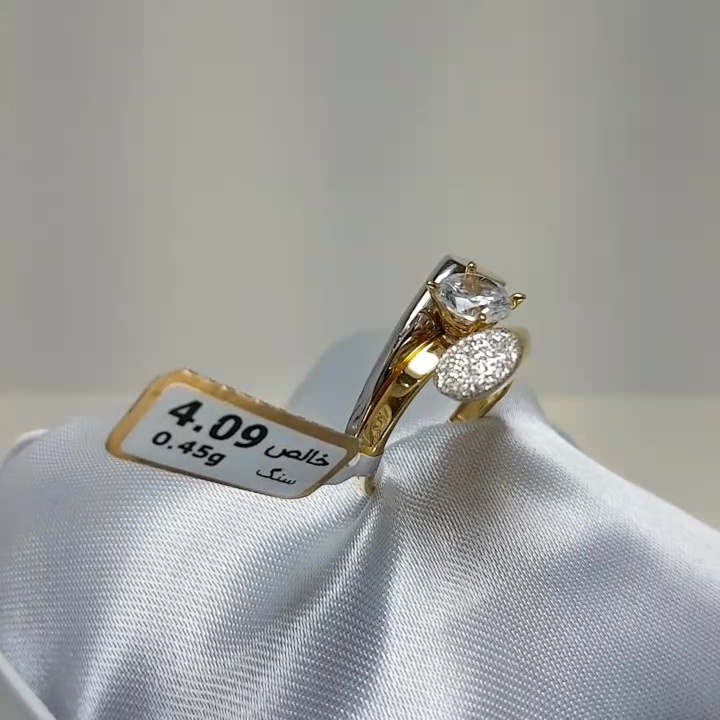Ring 7: (342, 250, 556, 491)
